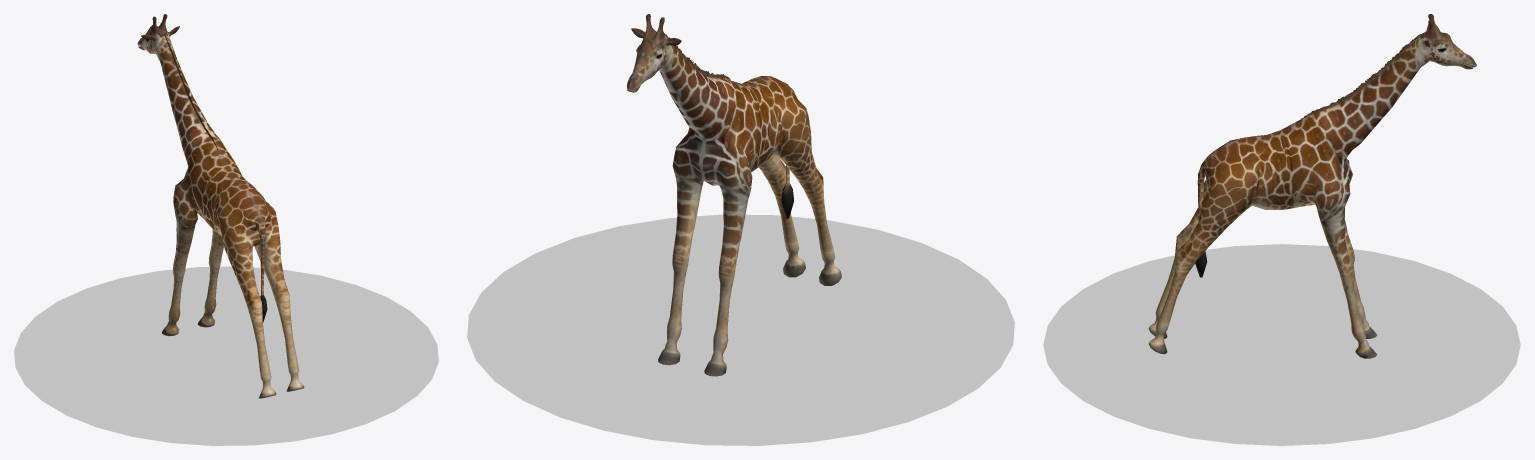
The model's file is giraffe.fbx.
3 views of the same model, side by side, from view 1: azimuth 30°, elevation 25°; view 2: azimuth 150°, elevation 25°; view 3: azimuth 270°, elevation 25° (orthographic). The views are drawn at different scales.
Visible parts, largest first — view 1: Circle_0, 1; view 2: Circle_0, 1; view 3: Circle_0, 1.
Boxes of the visible parts, left/top/right/bottom form: Circle_0: left=14, top=266, right=438, bottom=445; 1: left=137, top=14, right=304, bottom=398; Circle_0: left=467, top=214, right=1014, bottom=445; 1: left=627, top=14, right=841, bottom=376; Circle_0: left=1043, top=244, right=1520, bottom=445; 1: left=1148, top=14, right=1476, bottom=358.
Bounding box in the file's own units: 1098 × 831 × 1098.
